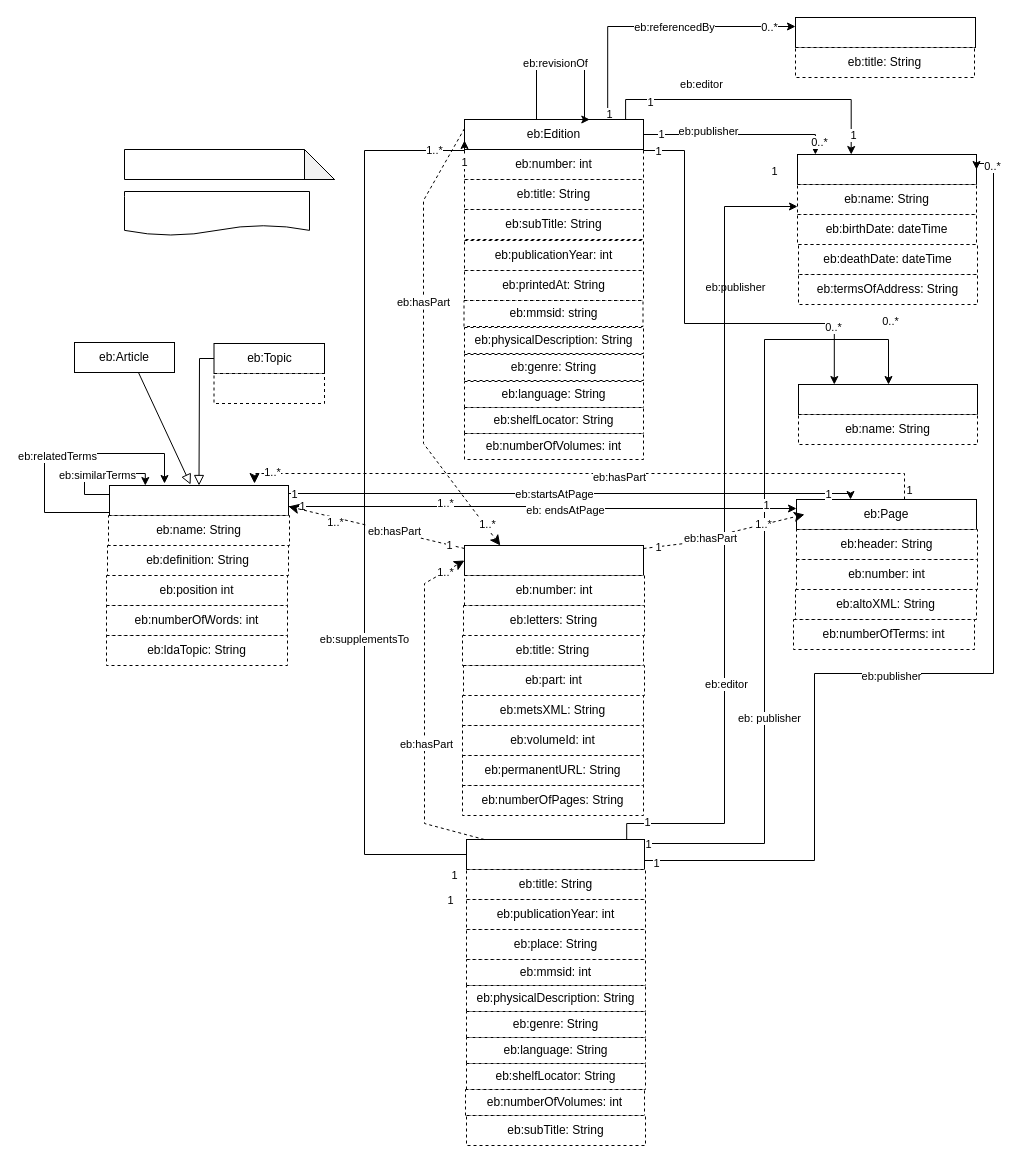
Some shapes in this 1019 by 1163 pixel diagram are drawn without their labels. Each missing label, with the centre of its shape:
"dc:creator: Rosa Filgueira owl:versionInfo: 0.0.1 dc:title: EB Ontology" belongs at (217,213).
"eb : https://w3id.org/eb/" belongs at (229,164).
"eb:Book" belongs at (885,32).
"eb:Organization" belongs at (888,399).
"eb:Person" belongs at (886,169).
"eb:summarizedTopic: String" belongs at (268,388).
"eb:Supplement" belongs at (555,854).
"eb:Term" belongs at (198,500).
"eb:Volume" belongs at (554,560).
